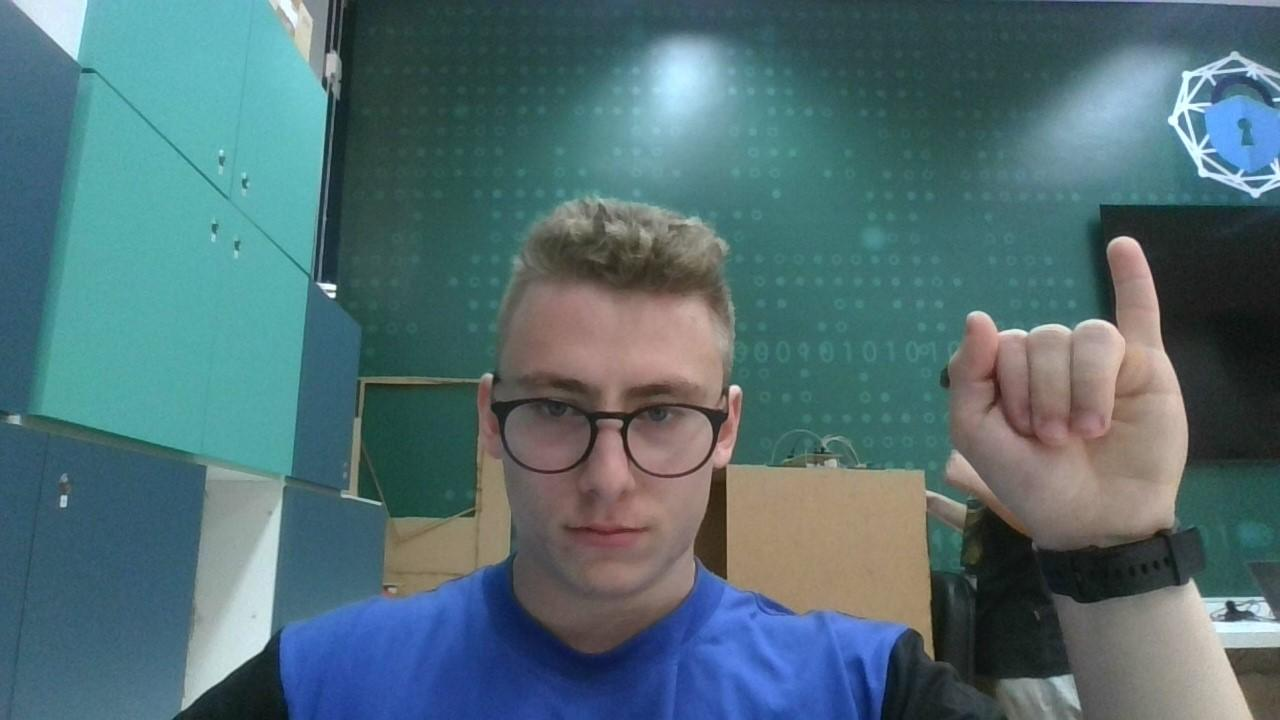I: (930, 232, 1196, 522)
